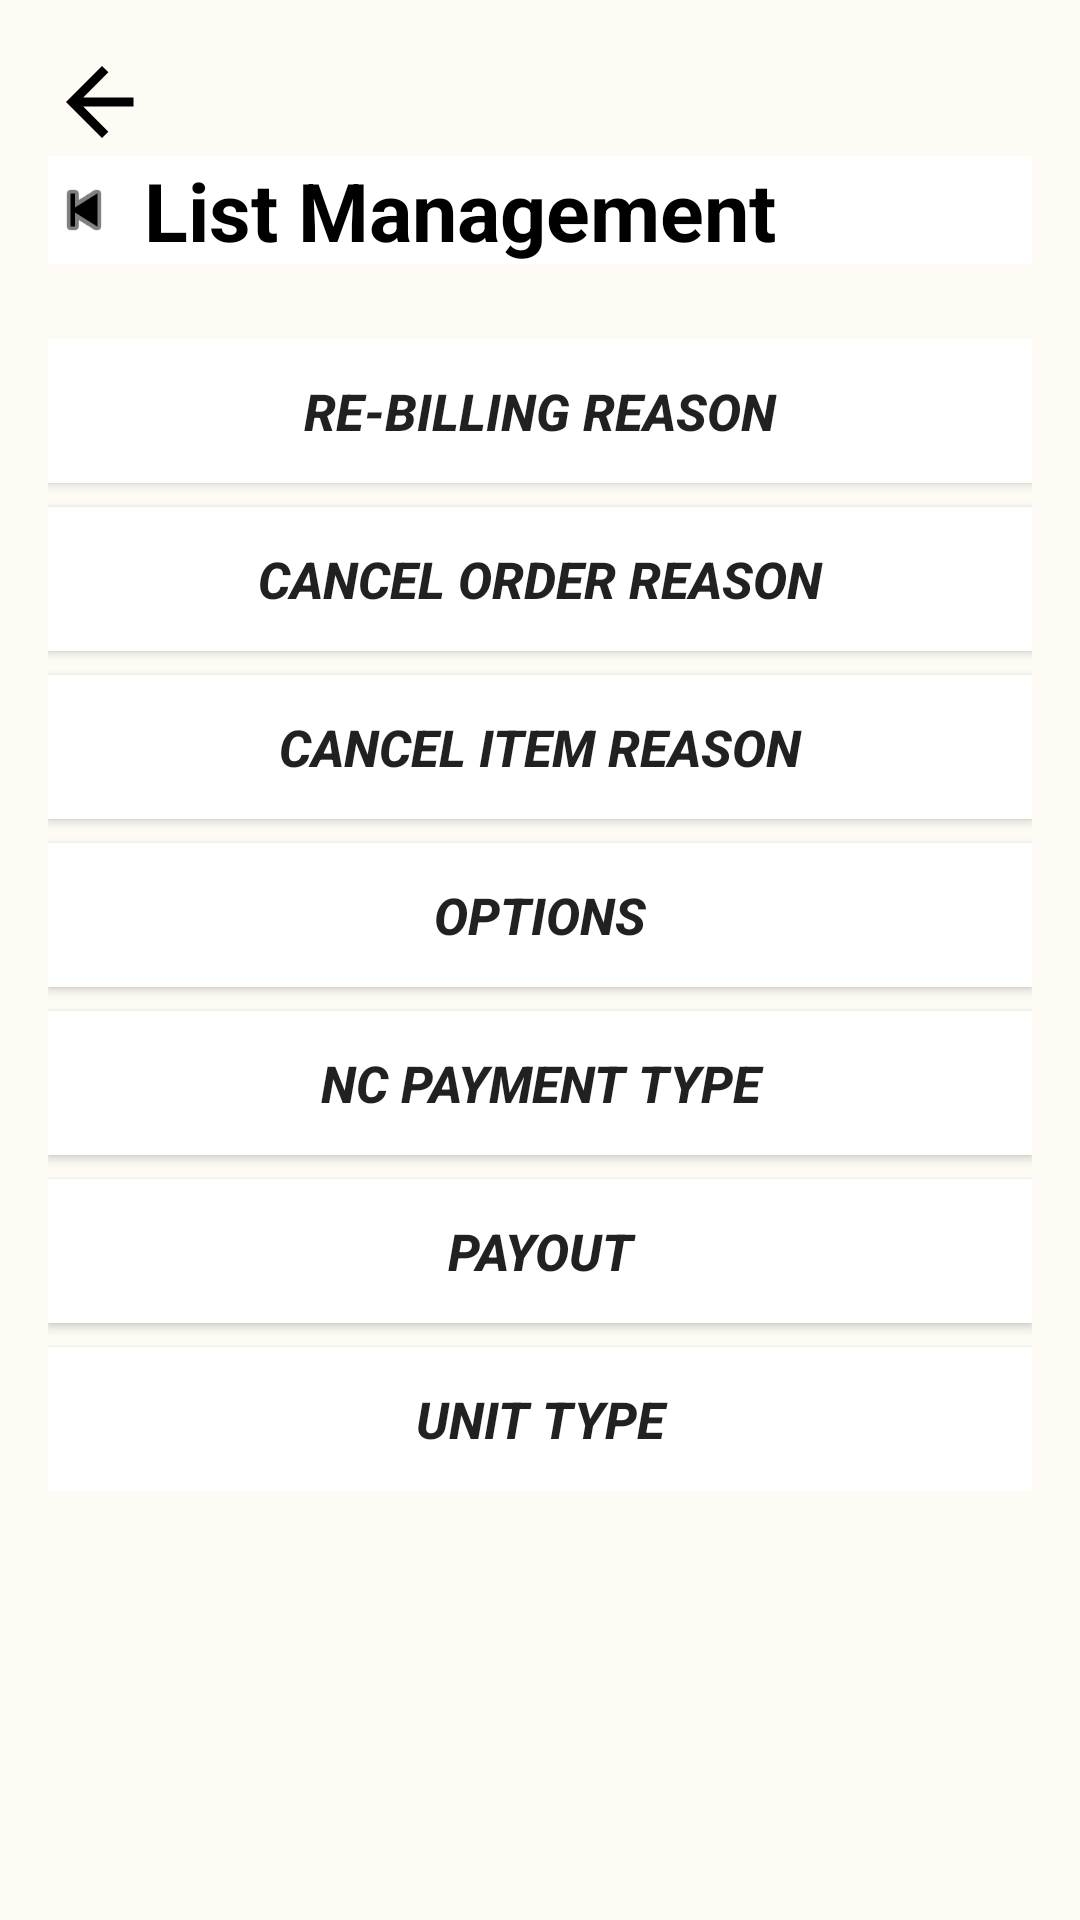

Screen size 1080 × 1920. Icon name, then its box in pixels as (x1, y1, x2, y2):
back arrow: (66, 66, 134, 138)
